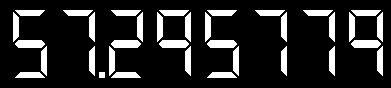dot: (98, 70, 106, 80)
five: (12, 10, 48, 79), (205, 10, 239, 77)
nine: (157, 10, 192, 76), (349, 10, 383, 76)
seven: (61, 9, 95, 77), (254, 9, 288, 77), (302, 9, 336, 76)
two: (108, 8, 143, 78)
